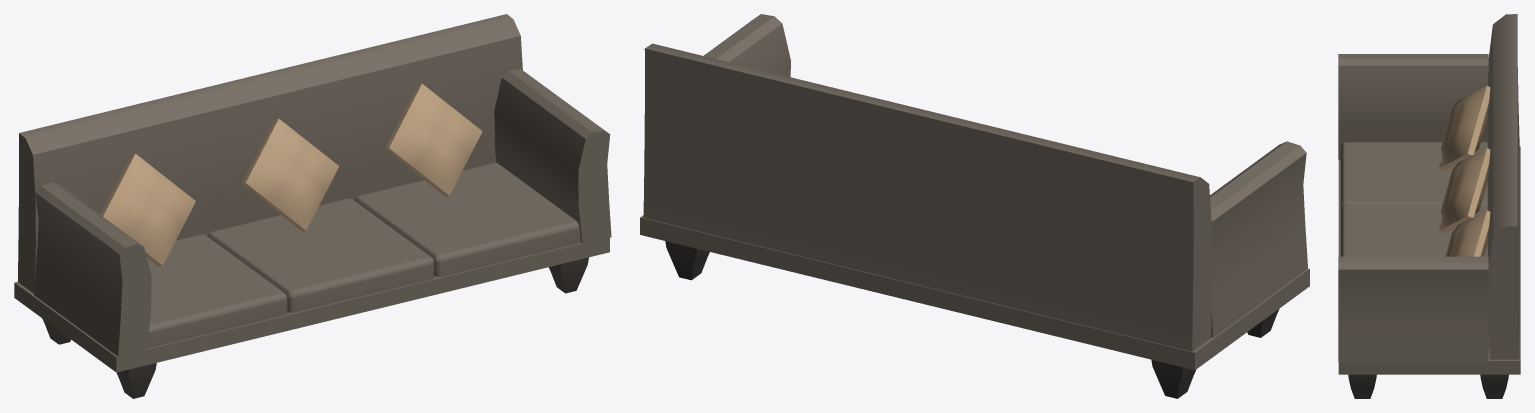
File: sofa_3.fbx
The picture shows the model from 3 angles, left to right: view 1: azimuth 30°, elevation 25°; view 2: azimuth 150°, elevation 25°; view 3: azimuth 270°, elevation 25°; orthographic projection. The views are drawn at different scales.
Parts seen in each view (by area): view 1: pCube33; view 2: pCube33; view 3: pCube33.
Boxes of the visible parts, x1=… form: pCube33: x1=14, y1=14, x2=611, y2=398; pCube33: x1=640, y1=14, x2=1309, y2=398; pCube33: x1=1338, y1=14, x2=1520, y2=398.
Size of the model in its own units: 10.08 by 3.98 by 3.6.
